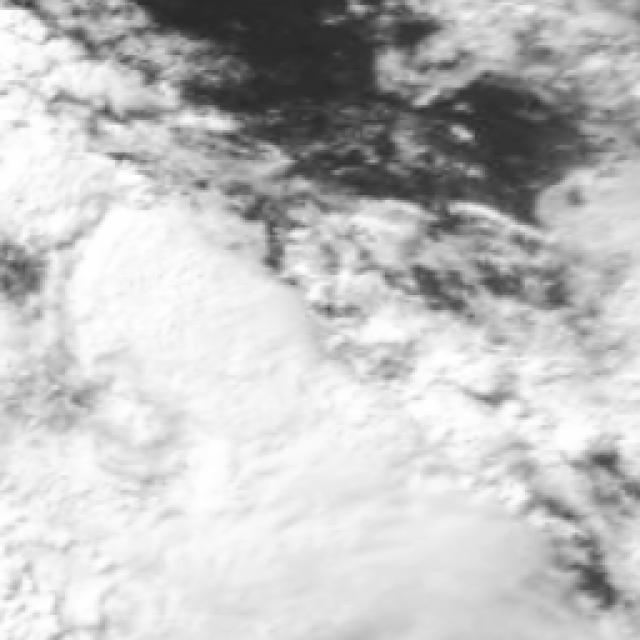CB: (122, 472, 311, 640), (144, 372, 363, 516), (310, 492, 508, 640), (0, 435, 140, 640), (88, 253, 266, 408), (322, 390, 487, 557)
